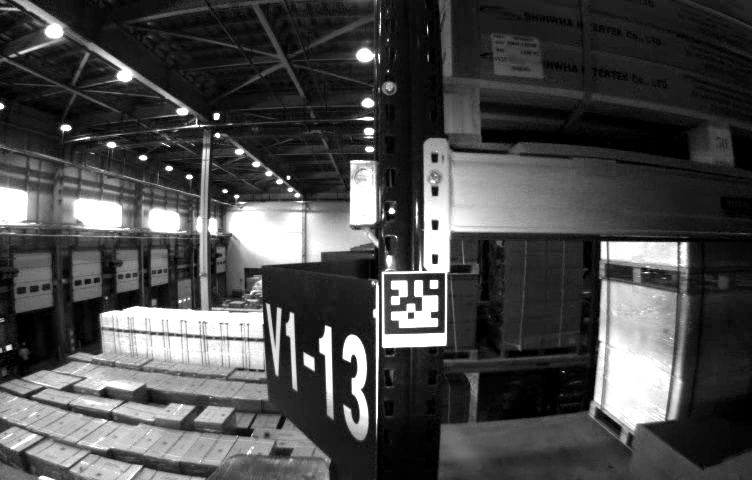True Barcode: (489, 33, 544, 80)
